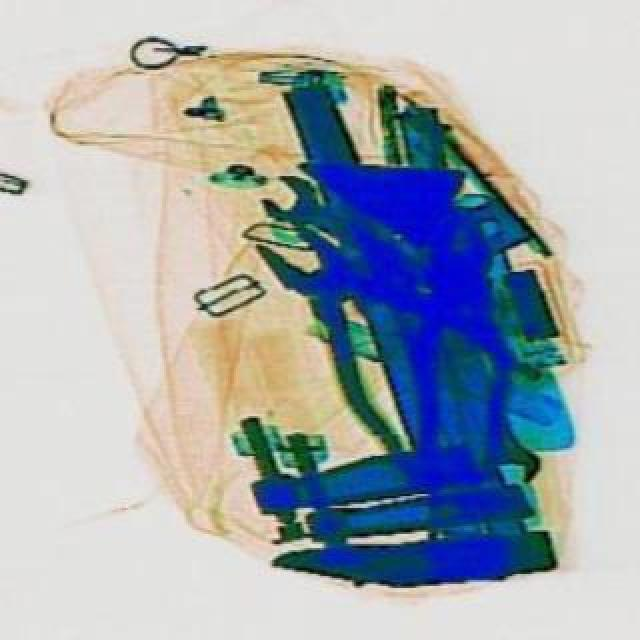scissors: (250, 162, 424, 286)
wrench: (210, 178, 516, 460)
